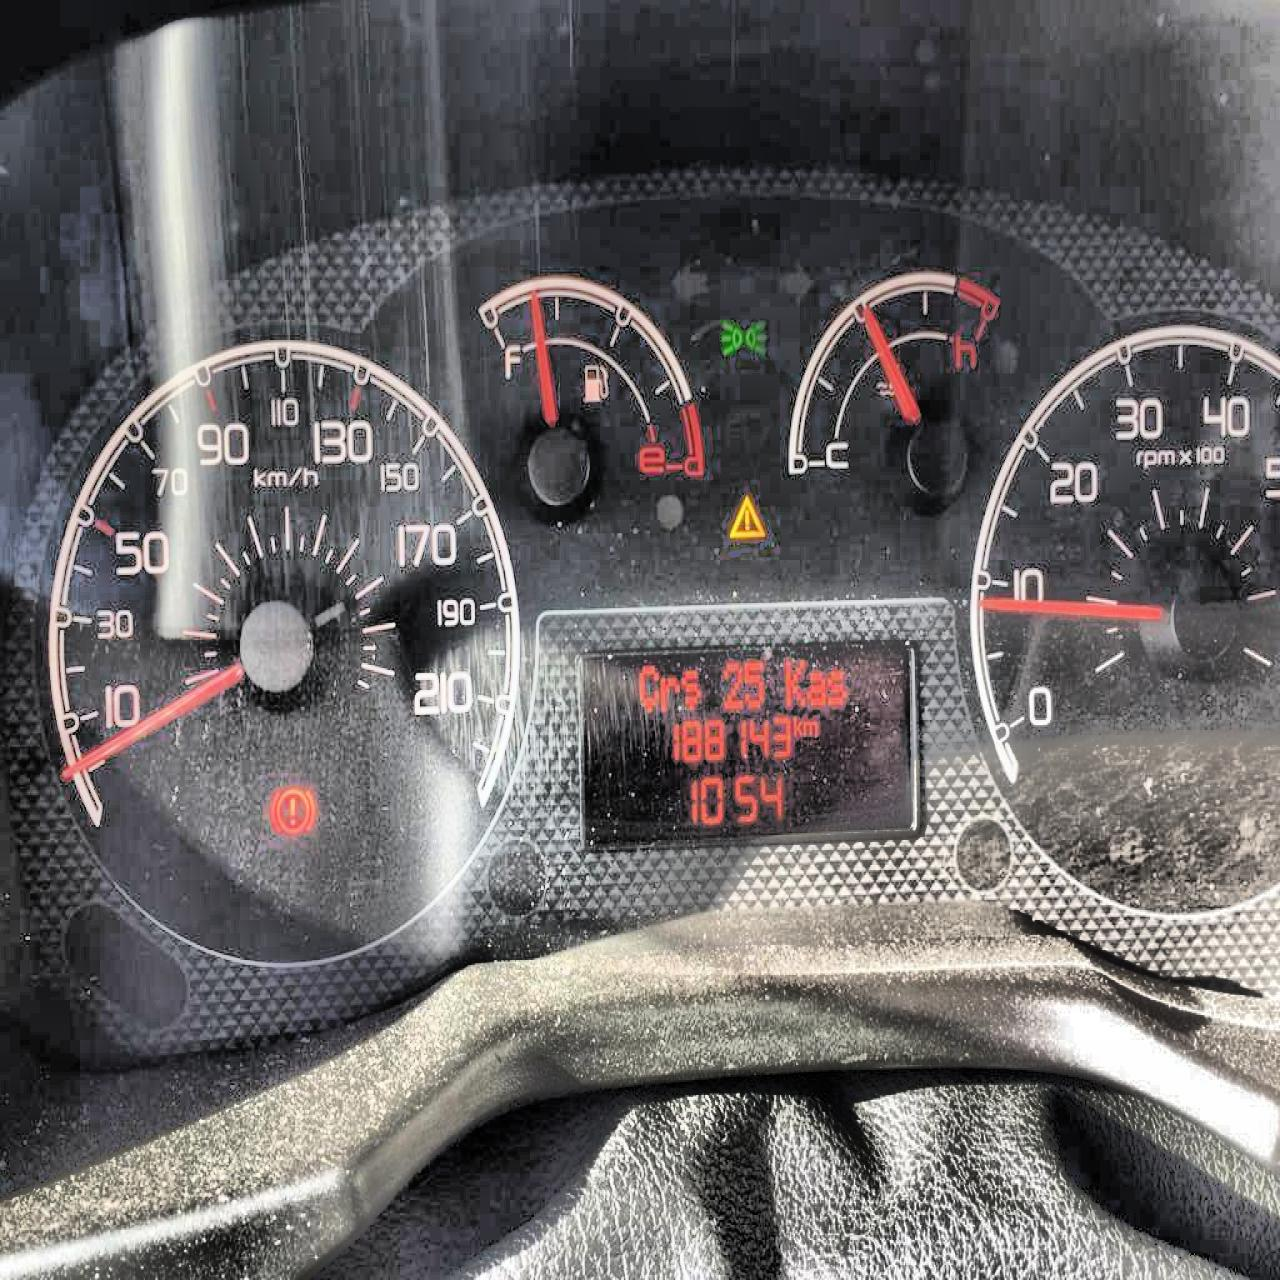0: (699, 775, 722, 823)
1: (688, 778, 697, 825), (738, 719, 747, 758), (672, 722, 679, 761)
2: (722, 662, 742, 708)
3: (771, 715, 791, 757)
4: (758, 775, 783, 821), (748, 716, 769, 755)
5: (733, 771, 757, 821), (742, 660, 763, 707)
8: (702, 716, 723, 761), (680, 719, 701, 762)
X: (784, 659, 805, 707), (638, 663, 658, 712), (659, 675, 680, 712), (681, 669, 700, 708), (825, 669, 846, 703), (806, 672, 825, 706), (802, 720, 817, 735), (791, 715, 801, 735)
odometer: (576, 641, 919, 846)
